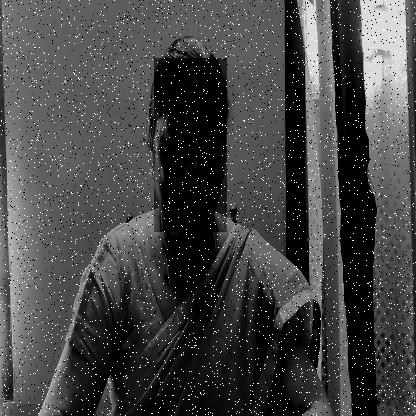Normal: (154, 58, 227, 232)
